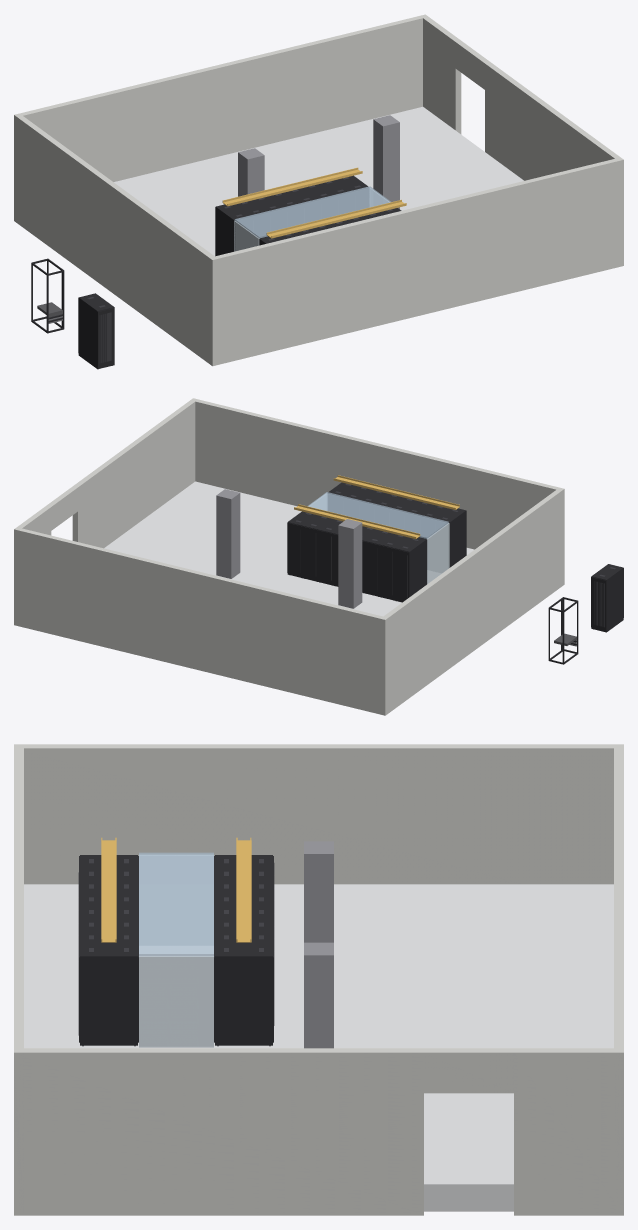
3 views of the same model, one above another, from view 1: azimuth 30°, elevation 25°; view 2: azimuth 150°, elevation 25°; view 3: azimuth 270°, elevation 25° (orthographic). The views are drawn at different scales.
Visible parts, largest first — view 1: Wall_S0, Wall_N0, Wall_W0, RaisedFloor, Wall_E0, Wall_E1, Containment_Roof_1, RackA_Base, Column_C_2, Rack_B01, Column_B_2, RackB (+12 smaller); view 2: Wall_N0, Wall_S0, Wall_W0, RaisedFloor, Wall_E0, Containment_Roof_1, Column_B_2, Column_C_2, RackA_Base, Rack_B01, Rack_A01, Rack_B08 (+18 smaller); view 3: Wall_W0, RaisedFloor, Wall_E0, Wall_E1, Containment_Roof_1, Containment_Door_1_W, Containment_Door_1_E, Rack_A08, Rack_B08, Wall_S0, Wall_N0, Wall_E_lintel (+10 smaller).
Part boxes in pixels (bbox=[...]): Wall_S0: bbox=[209, 159, 623, 366]; Wall_N0: bbox=[14, 14, 428, 222]; Wall_W0: bbox=[17, 116, 217, 365]; RaisedFloor: bbox=[114, 106, 523, 255]; Wall_E0: bbox=[485, 62, 622, 180]; Wall_E1: bbox=[423, 16, 461, 134]; Containment_Roof_1: bbox=[234, 186, 391, 238]; RackA_Base: bbox=[78, 293, 114, 369]; Column_C_2: bbox=[373, 115, 399, 209]; Rack_B01: bbox=[215, 204, 251, 256]; Column_B_2: bbox=[238, 148, 264, 196]; RackB: bbox=[31, 258, 64, 333]; Wall_N0: bbox=[14, 527, 388, 715]; Wall_S0: bbox=[191, 398, 564, 584]; Wall_W0: bbox=[380, 487, 564, 715]; RaisedFloor: bbox=[104, 481, 474, 616]; Wall_E0: bbox=[72, 398, 197, 548]; Containment_Roof_1: bbox=[307, 492, 448, 538]; Column_B_2: bbox=[338, 519, 362, 608]; Column_C_2: bbox=[216, 489, 240, 578]; RackA_Base: bbox=[591, 564, 623, 632]; Rack_B01: bbox=[394, 537, 426, 602]; Rack_A01: bbox=[434, 508, 466, 567]; Rack_B08: bbox=[287, 511, 316, 578]; Wall_W0: bbox=[15, 744, 622, 884]; RaisedFloor: bbox=[24, 884, 613, 1211]; Wall_E0: bbox=[14, 1048, 423, 1215]; Wall_E1: bbox=[514, 1048, 623, 1215]; Containment_Roof_1: bbox=[139, 852, 213, 956]; Containment_Door_1_W: bbox=[139, 854, 213, 945]; Containment_Door_1_E: bbox=[139, 956, 213, 1047]; Rack_A08: bbox=[78, 943, 138, 1046]; Rack_B08: bbox=[214, 943, 274, 1046]; Wall_S0: bbox=[14, 744, 23, 1215]; Wall_N0: bbox=[614, 744, 623, 1215]; Wall_E_lintel: bbox=[424, 1048, 513, 1093].
Size of the model in its own units: 17.8 by 3.6 by 12.2.
